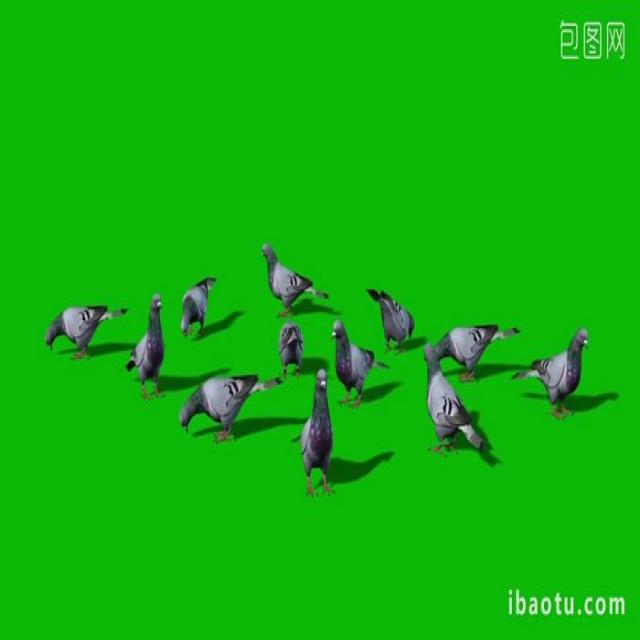bird: (177, 365, 286, 455), (420, 340, 492, 470), (517, 322, 597, 419), (252, 231, 335, 318), (39, 286, 133, 362), (295, 367, 340, 512), (128, 278, 172, 408), (434, 307, 523, 370), (331, 315, 375, 409), (371, 276, 419, 358), (178, 263, 222, 348), (277, 320, 312, 380)
